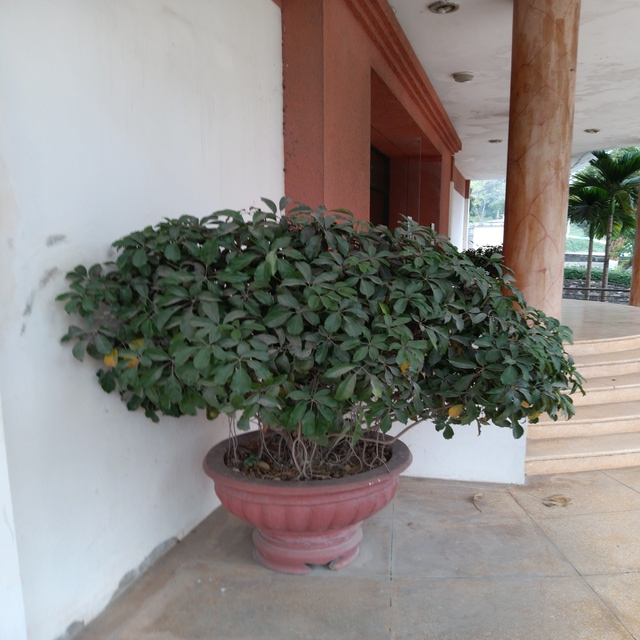caycanh: (54, 198, 586, 573)
